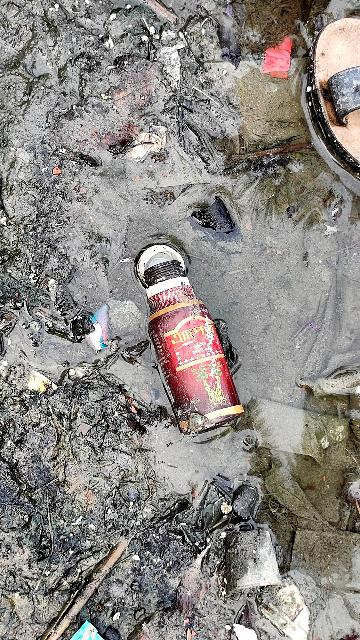bottle: (132, 257, 246, 453)
